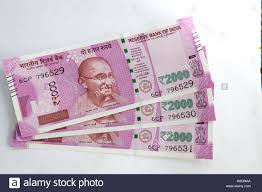twoThousand: (24, 64, 202, 110)
